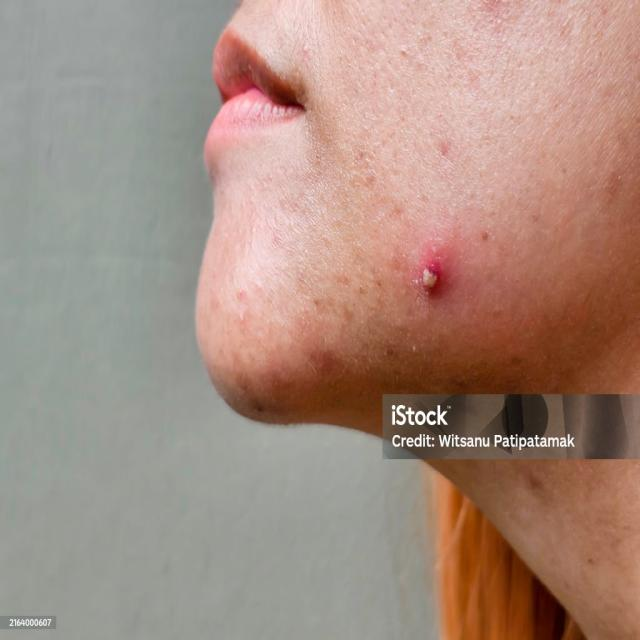pustule: (406, 224, 464, 301)
